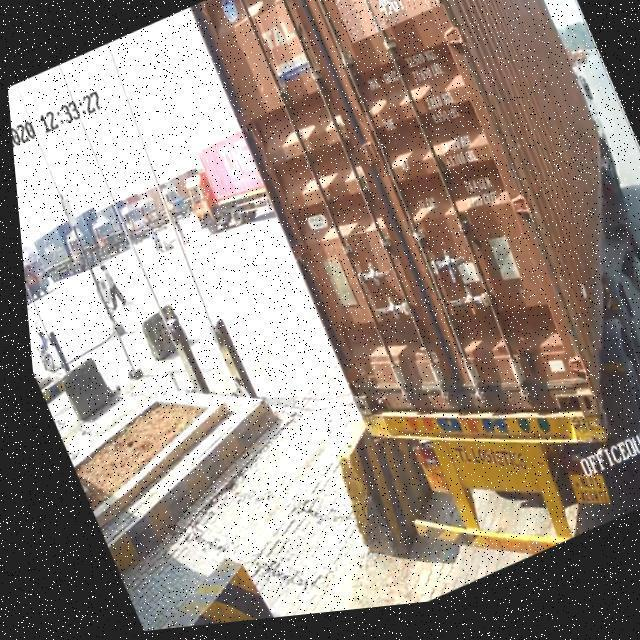container_number_h: (324, 0, 445, 53)
